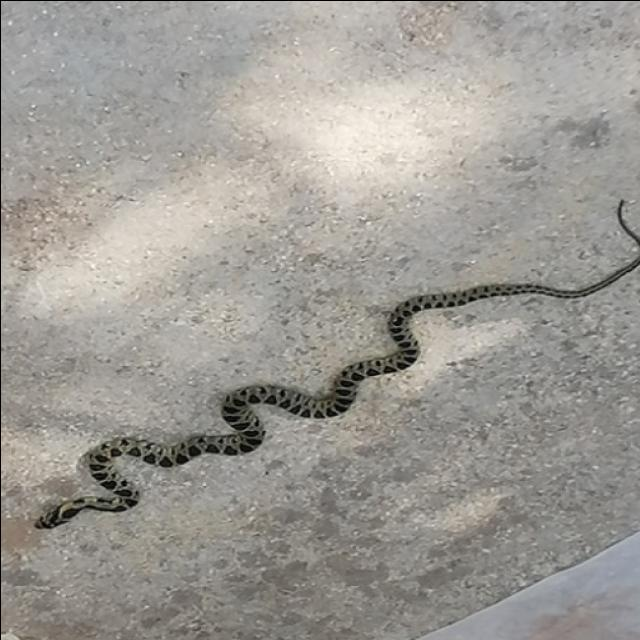snake: (24, 176, 640, 544)
